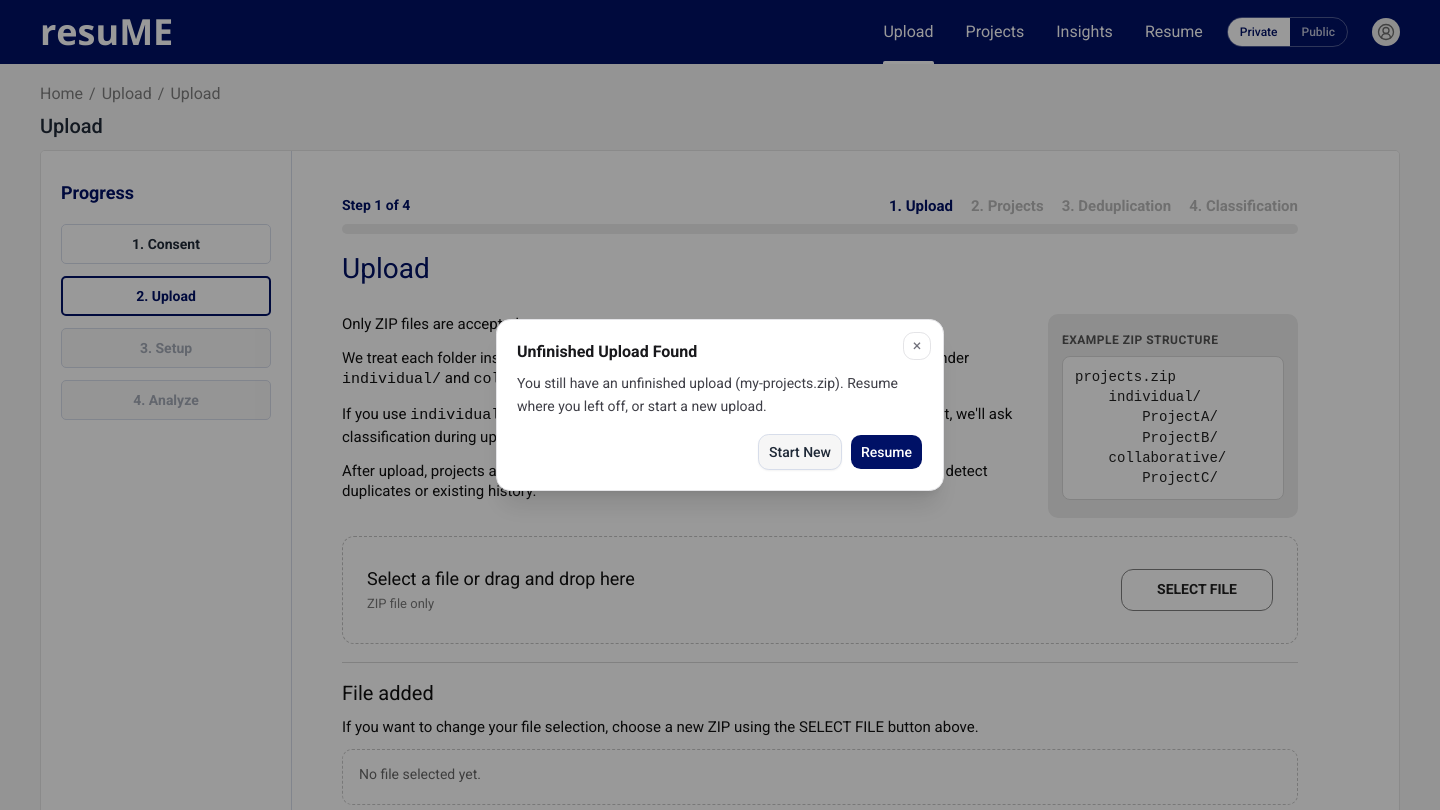
UploadPage recovery and validation flows › deletes unfinished upload when Start New is selected
Expected: the heading "Unfinished Upload Found" is shown, [517,342,697,361]
Click the button "Start New".
click(800, 452)  # box [758,434,842,470]
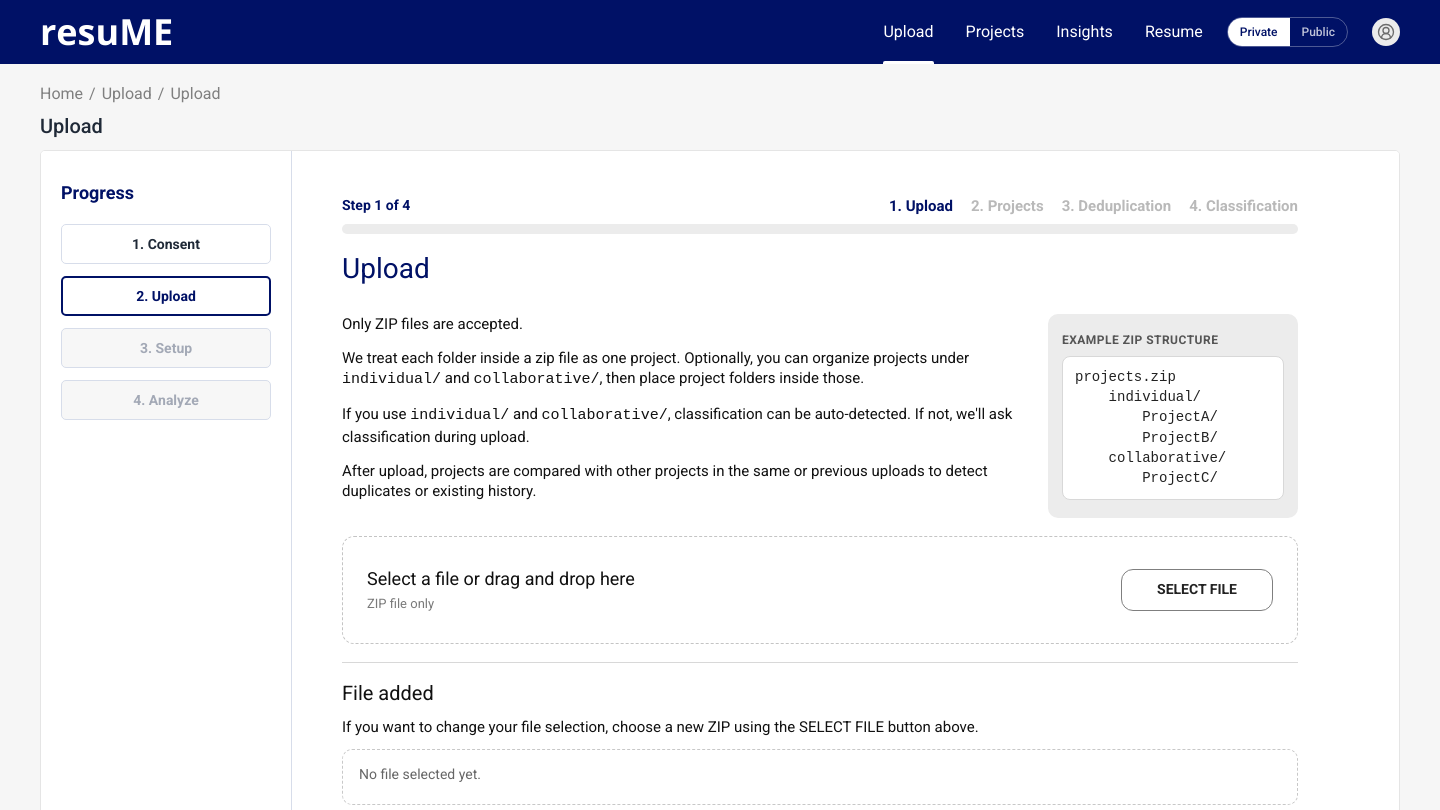
Expected: the heading "Unfinished Upload Found" is gone
